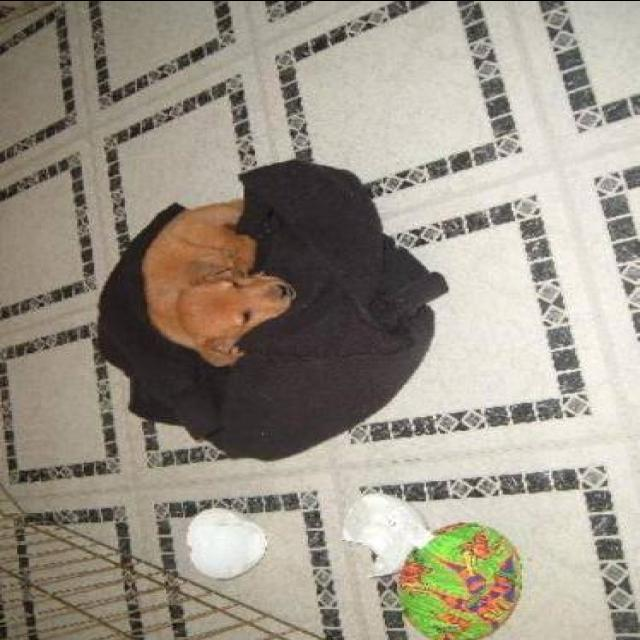dog: (118, 178, 326, 370)
